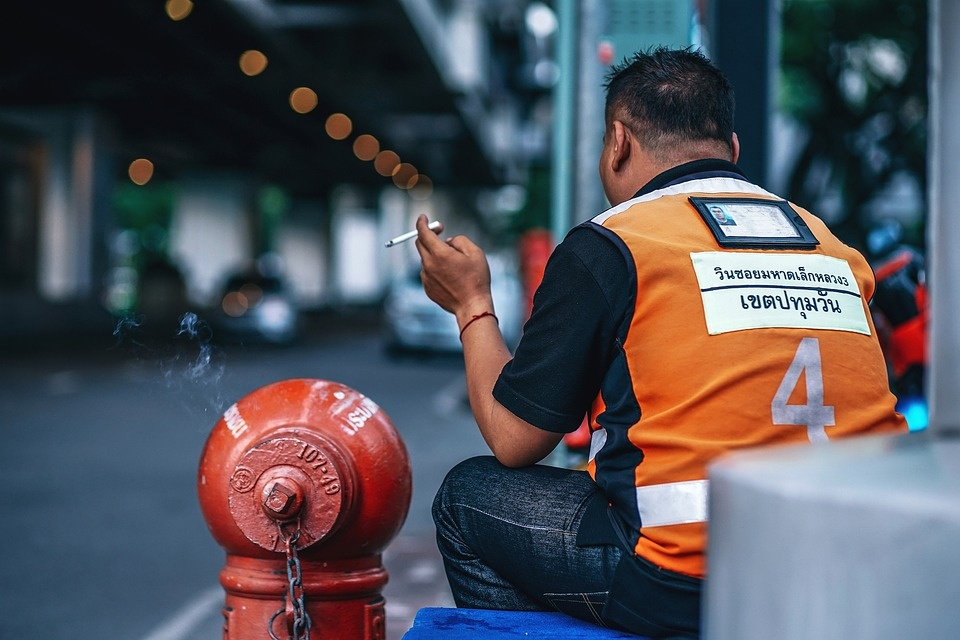sigaretta: (380, 219, 447, 248)
